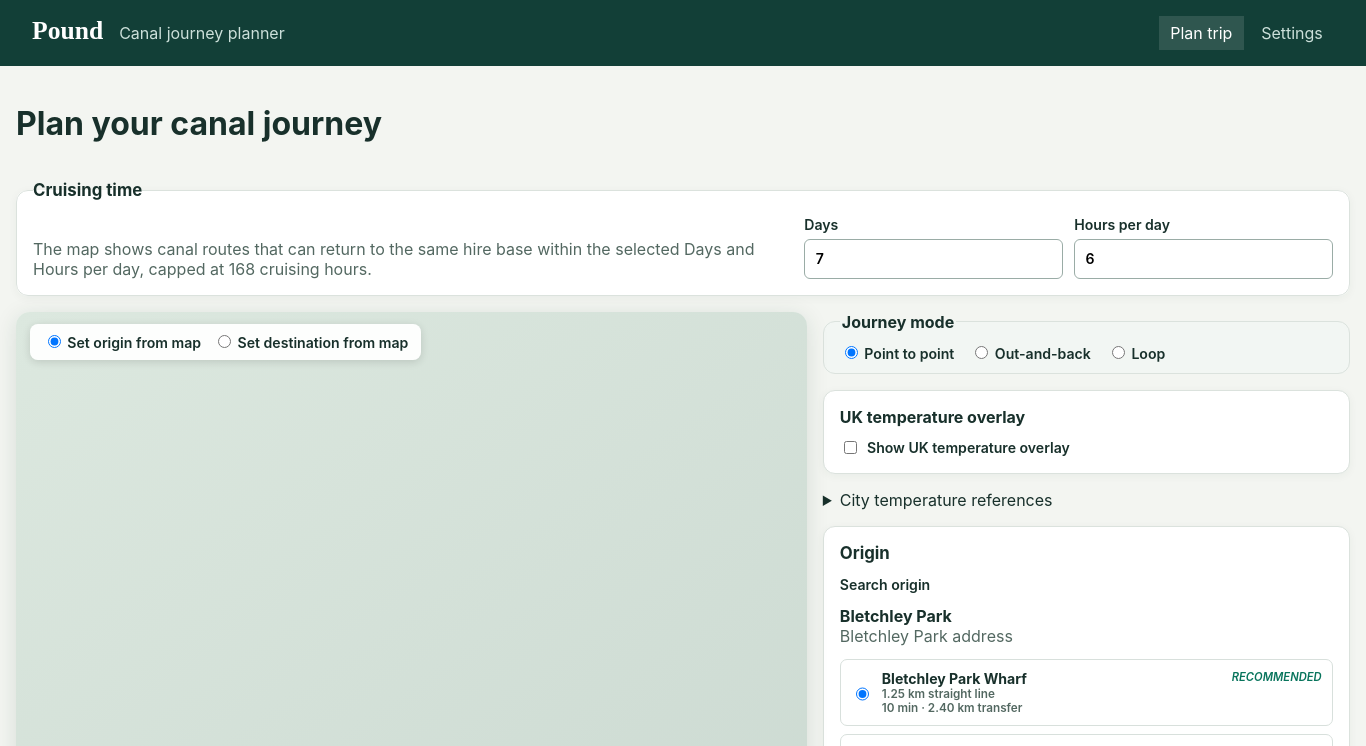
Scenario: trip planning interface › returns to the planner and reports a persistent save there
Click the link "Settings" at (1292, 33), box [1261,23,1323,43]
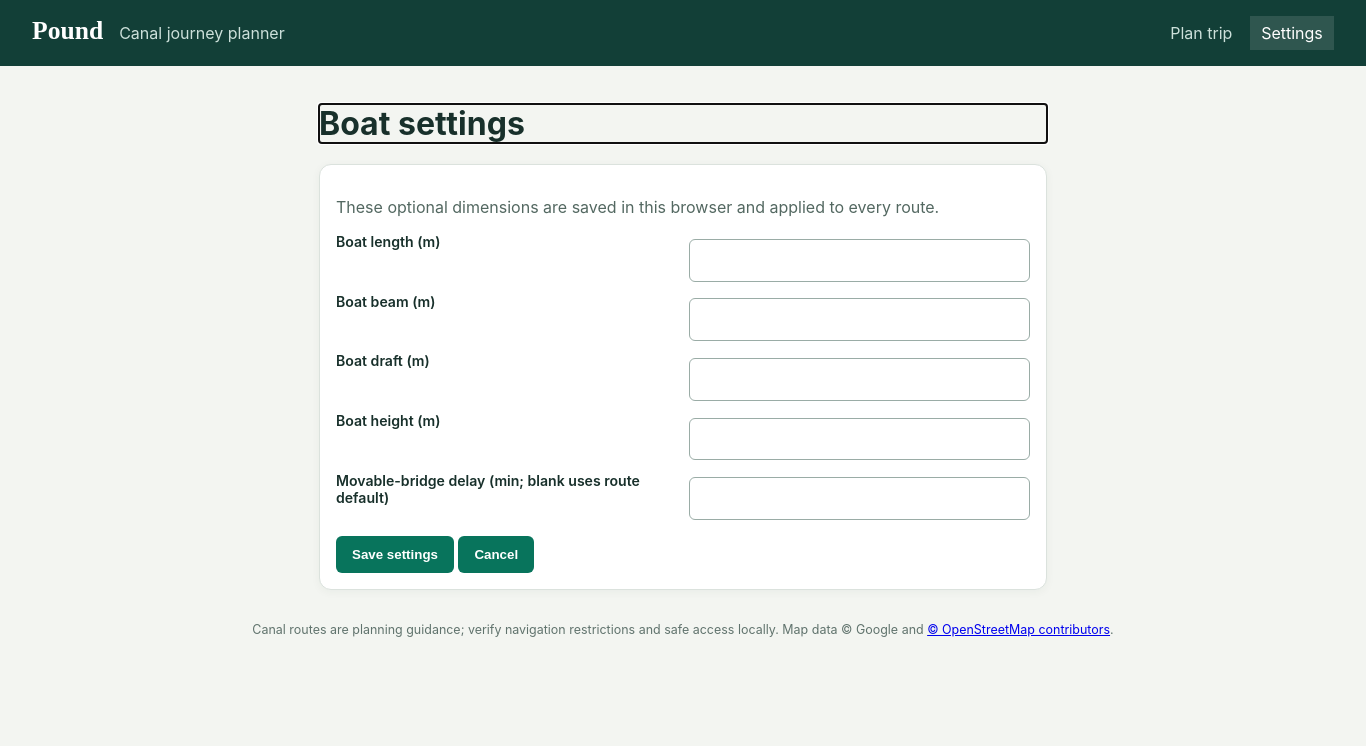
Type "18.3" into the number field labelled "Boat length (m)" at (859, 260), box [689,239,1030,282]
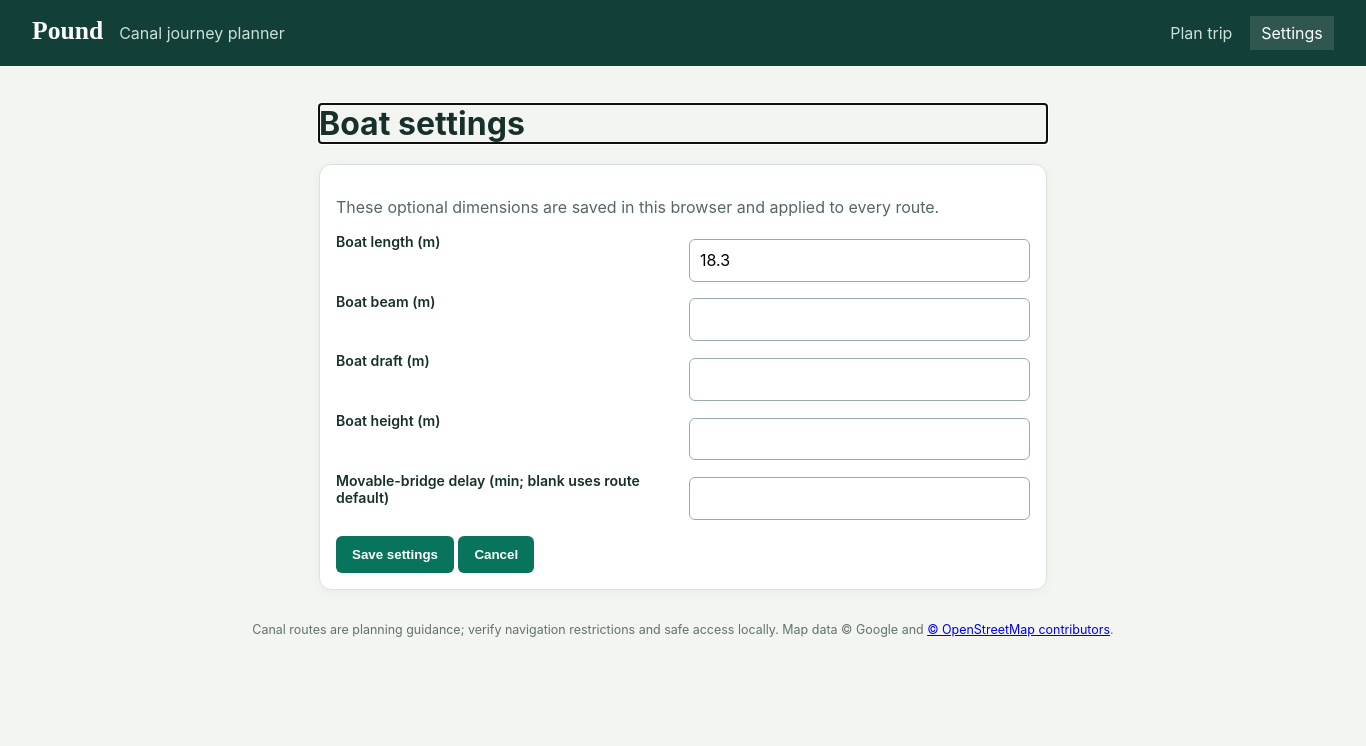
Click the button "Save settings" at (395, 555), box [336,536,454,573]
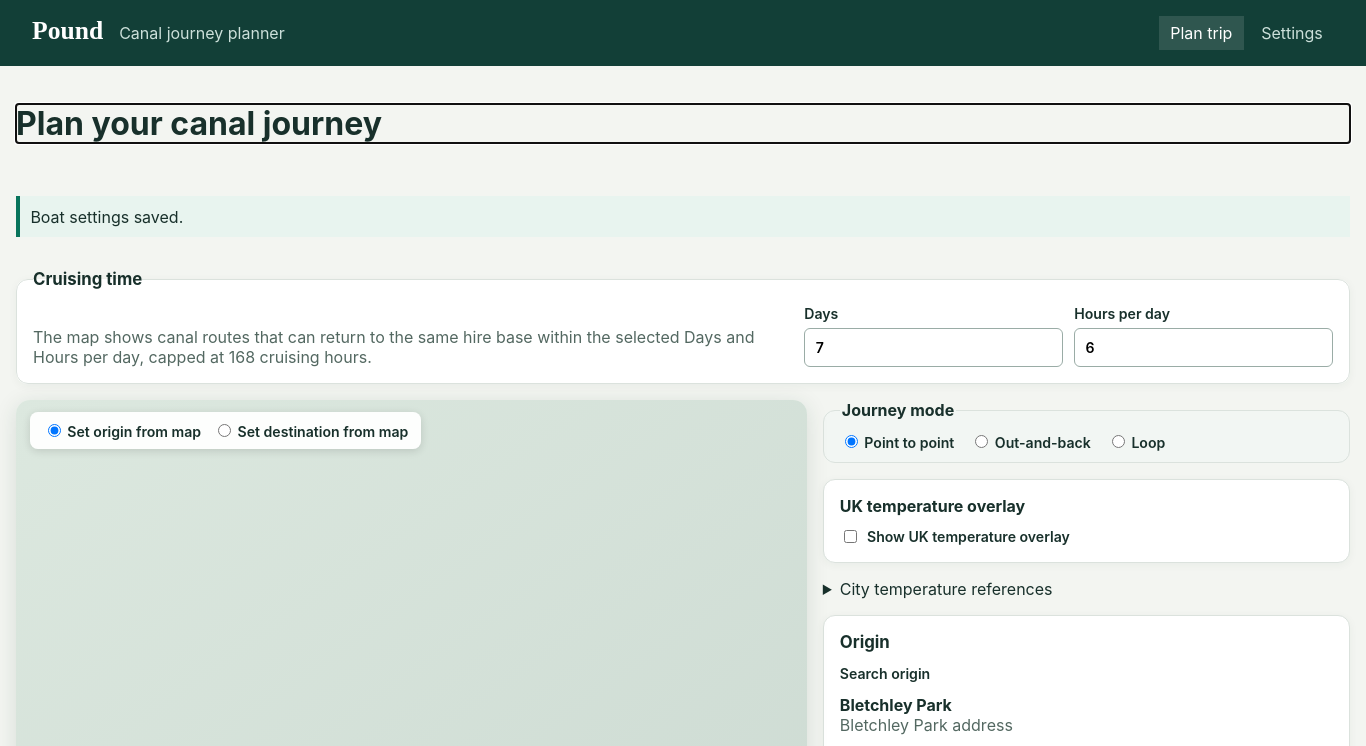
expect the heading "Plan your canal journey" is shown: met, box [16,104,382,143]
expect the message reads "Boat settings saved.": met, box [30,207,183,227]
